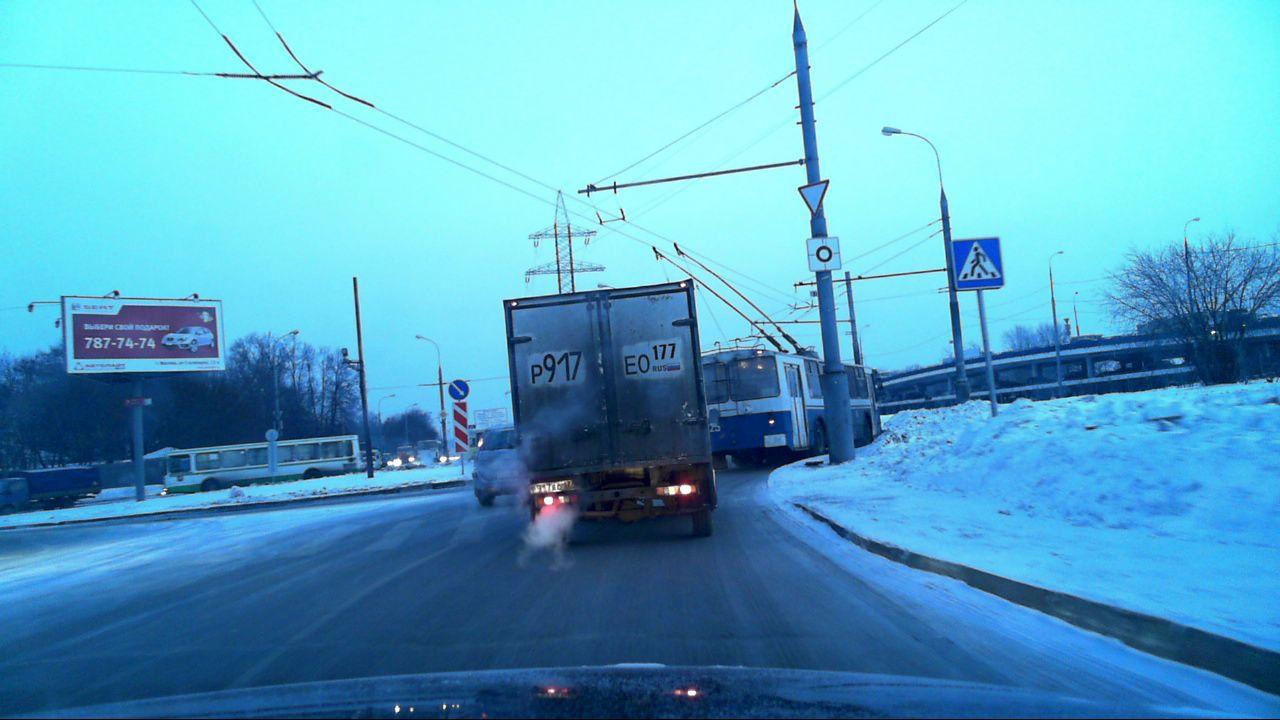2_4: (797, 179, 831, 216)
4_2_1: (447, 378, 471, 401)
5_19_1: (946, 237, 1005, 291)
8_13: (805, 237, 843, 273)
8_22_1: (451, 400, 471, 454)
